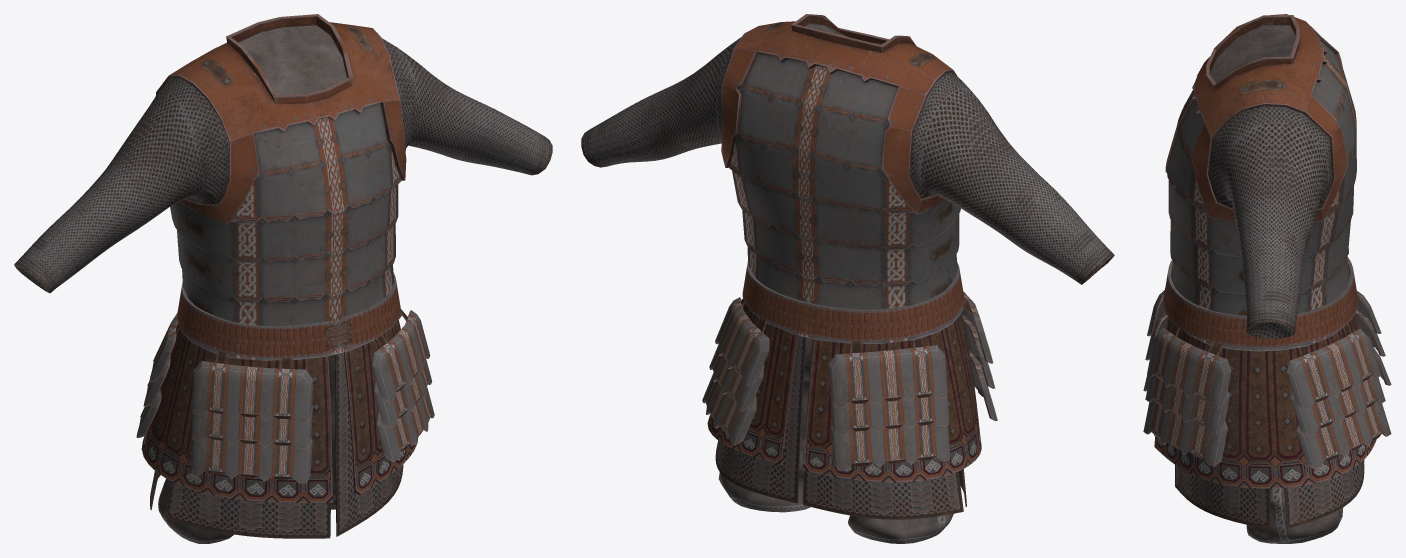
The model's file is sk_dwarf_dain_chest_heavy_a.fbx.
The picture shows the model from 3 angles, left to right: view 1: azimuth 30°, elevation 25°; view 2: azimuth 150°, elevation 25°; view 3: azimuth 270°, elevation 25°; orthographic projection. The views are drawn at different scales.
Parts seen in each view (by area): view 1: sk_dwarf_dain_chest_heavy_a.0, sk_dwarf_dain_chest_heavy_a.1; view 2: sk_dwarf_dain_chest_heavy_a.0, sk_dwarf_dain_chest_heavy_a.1; view 3: sk_dwarf_dain_chest_heavy_a.0, sk_dwarf_dain_chest_heavy_a.1, sk_dwarf_dain_chest_heavy_a.2.
Boxes of the visible parts, x1=… form: sk_dwarf_dain_chest_heavy_a.0: x1=14, y1=14, x2=552, y2=543; sk_dwarf_dain_chest_heavy_a.1: x1=136, y1=310, x2=434, y2=538; sk_dwarf_dain_chest_heavy_a.0: x1=581, y1=14, x2=1114, y2=543; sk_dwarf_dain_chest_heavy_a.1: x1=702, y1=291, x2=997, y2=519; sk_dwarf_dain_chest_heavy_a.0: x1=1163, y1=14, x2=1358, y2=543; sk_dwarf_dain_chest_heavy_a.1: x1=1143, y1=290, x2=1391, y2=528; sk_dwarf_dain_chest_heavy_a.2: x1=1170, y1=323, x2=1351, y2=356.
Size of the model in its own units: 1.16 by 0.4933 by 1.03.
3 materials, 3 textured.
